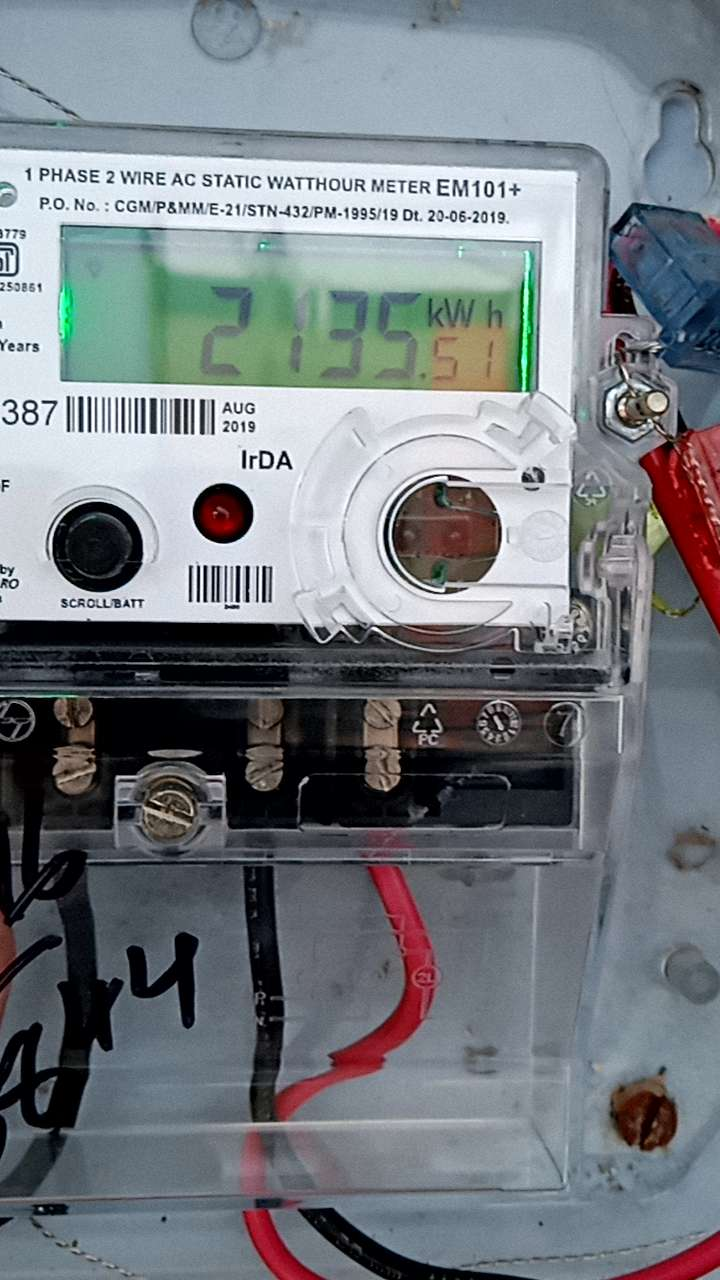meter_serial_number: (1, 383, 67, 441)
